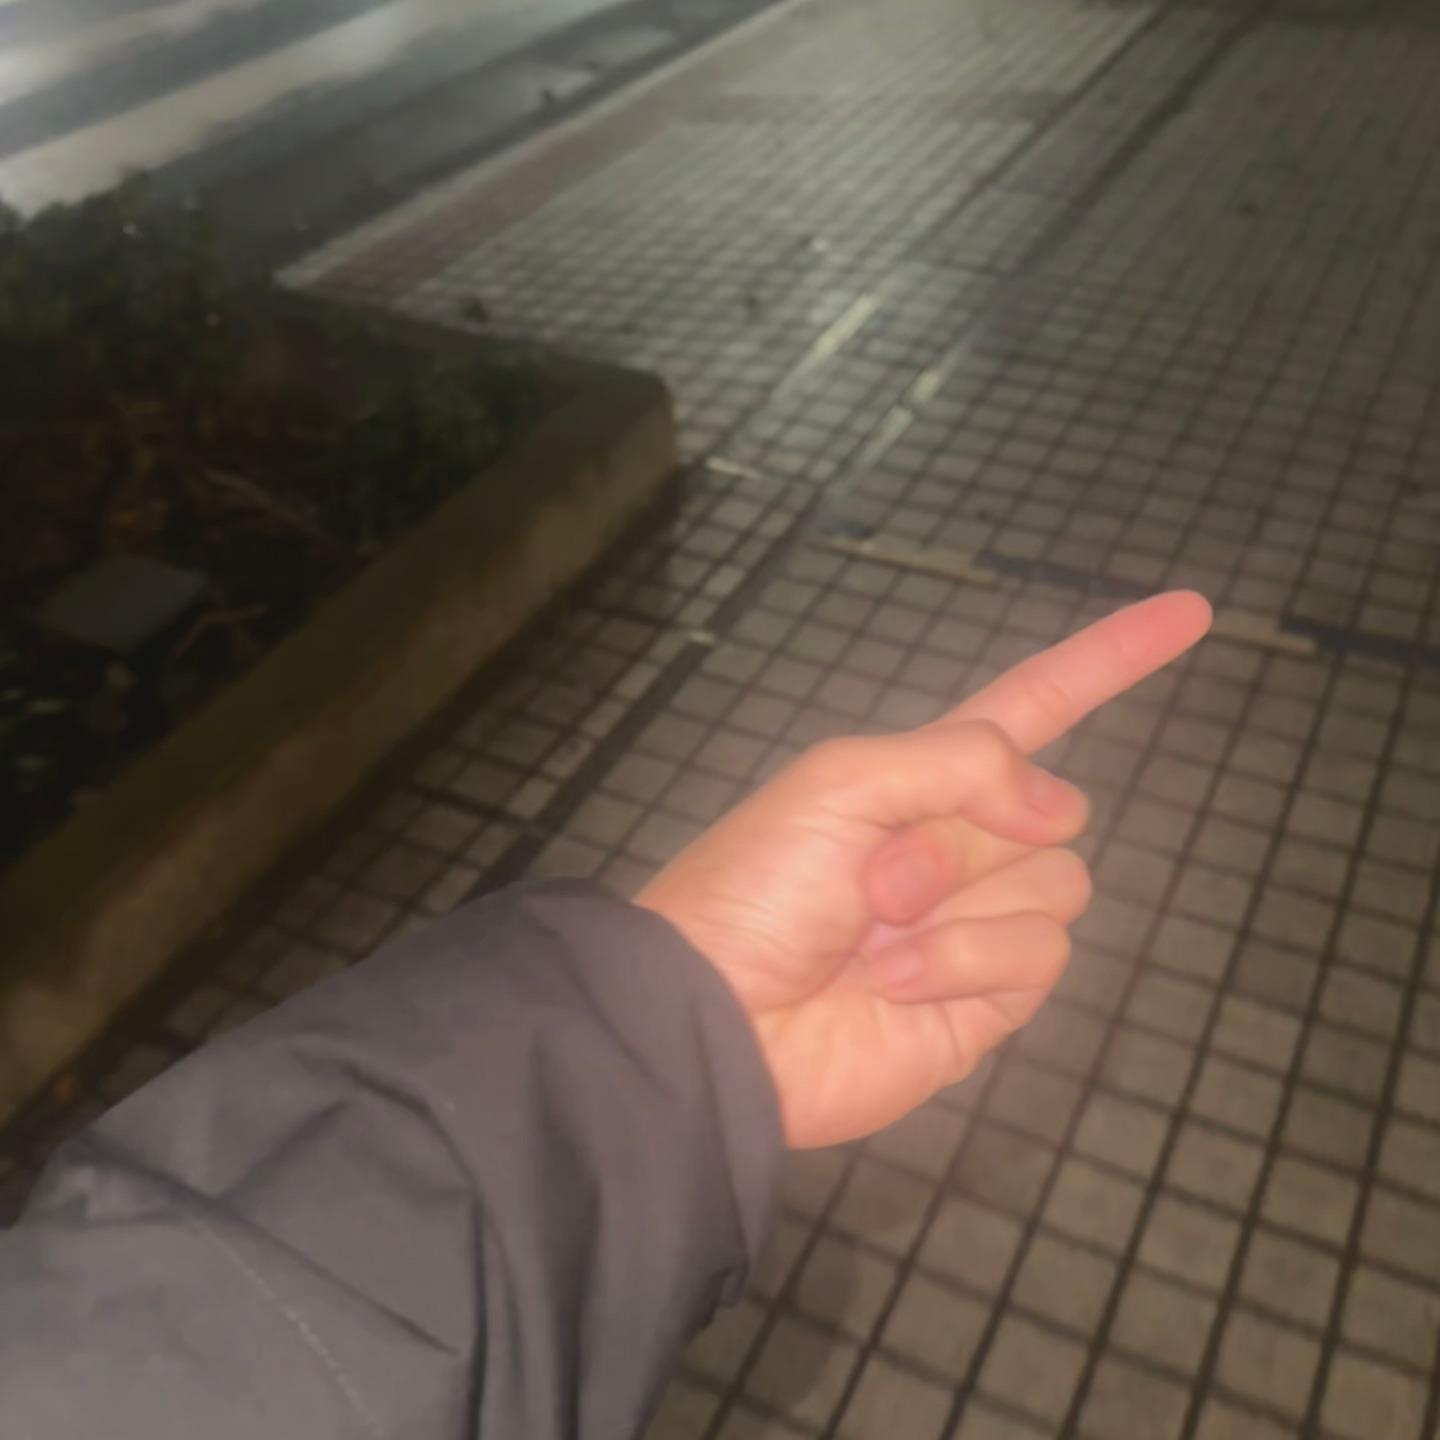without_gloves: (652, 545, 1240, 1178)
